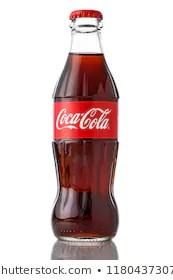coke-glass-bottle: (46, 4, 132, 239)
